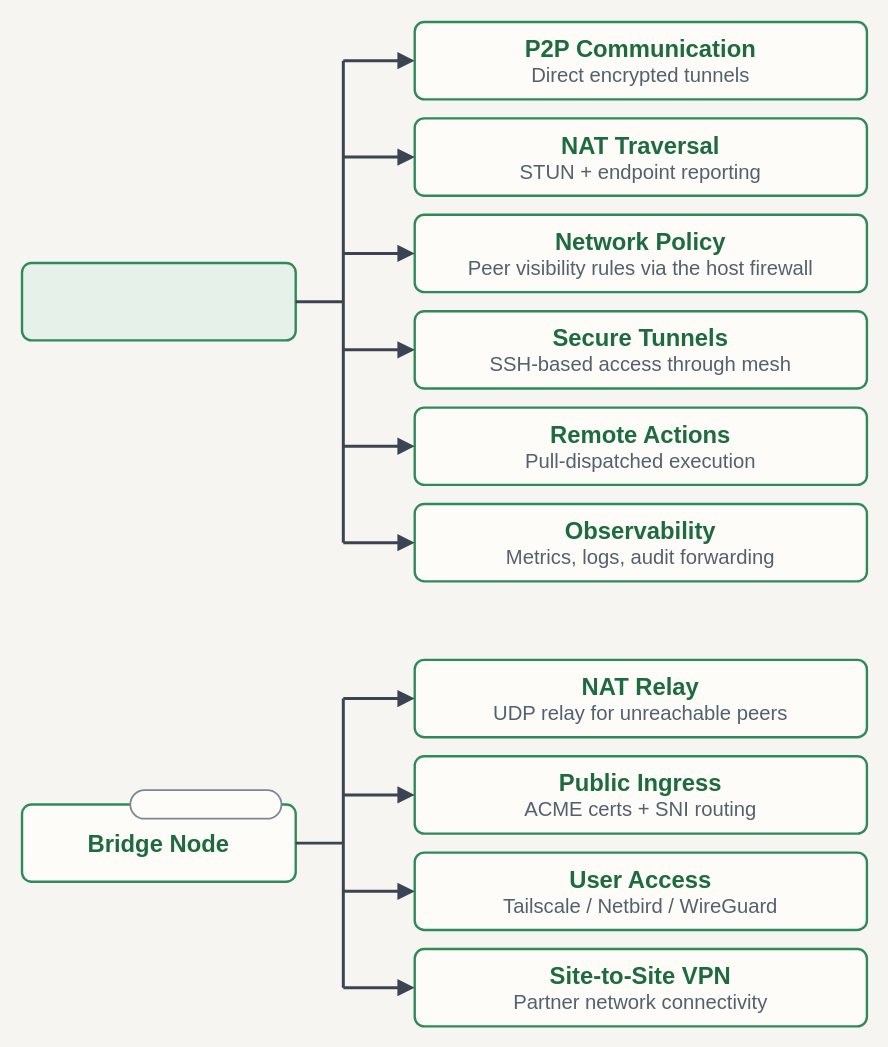
This 888x1047 diagram has some shape labels left out. Each missing label, with the centre of its shape:
bridge mode: [205,804]
WireGuard Mesh all nodes: [158,301]
